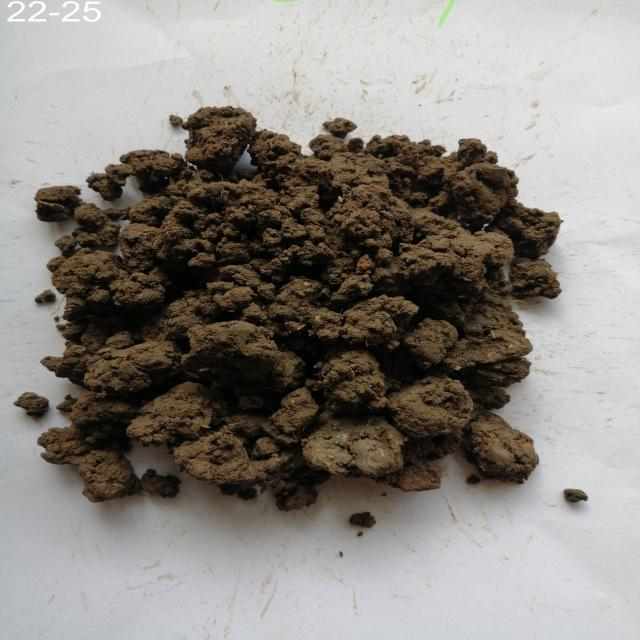soil: (120, 172, 490, 440)
